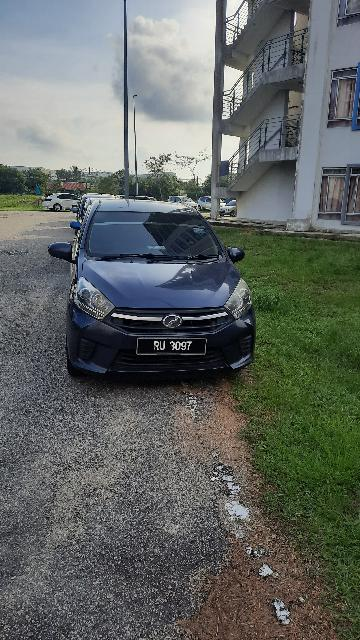License_Plate: (137, 336, 209, 360)
car: (43, 201, 261, 384)
